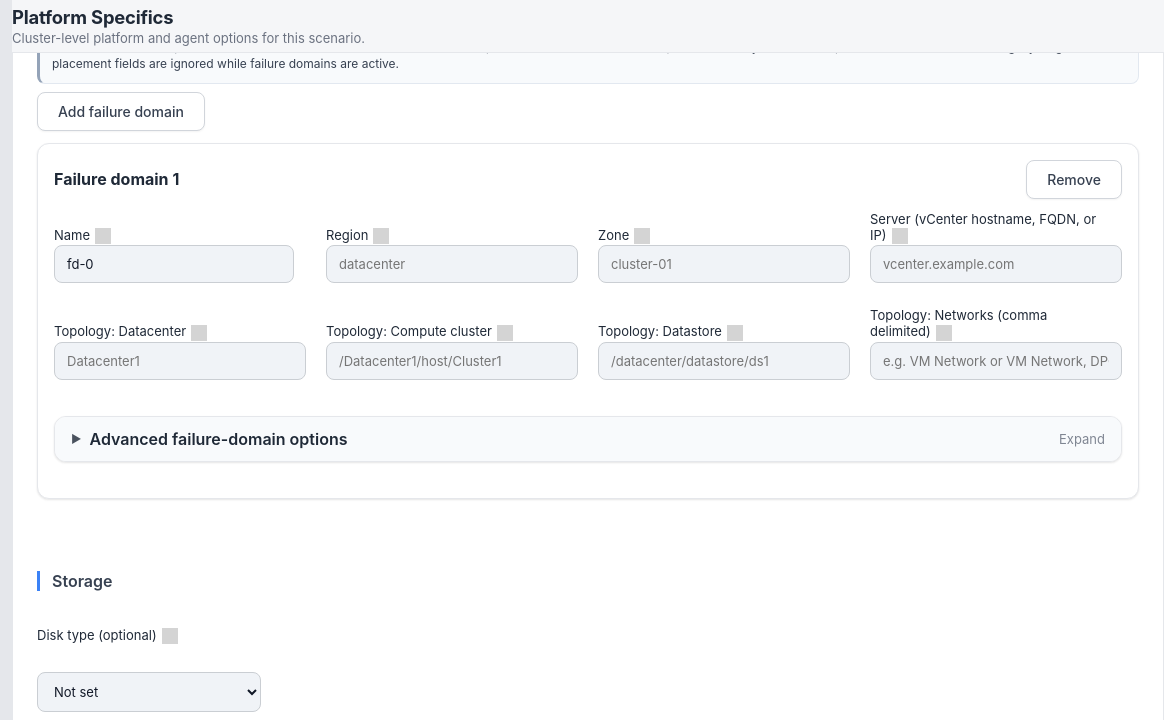
Test: R5: comma-delimited Networks field editing contract › supports mid-string editing without caret jumping to the end
This screenshot has width=1164, height=720.
(page scrolled)
Click the field with placeholder "e.g. VM Network or VM Network, DPG-1" at (996, 360), box [870,342,1122,380]
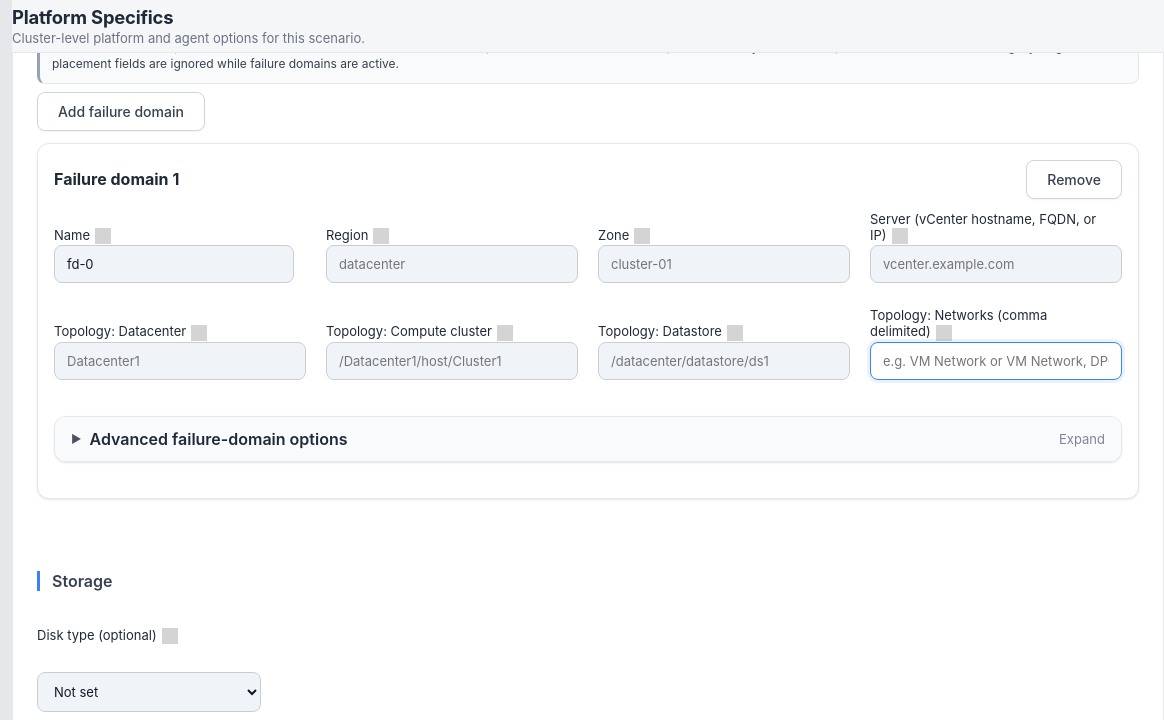
Type keys "alpha, beta"
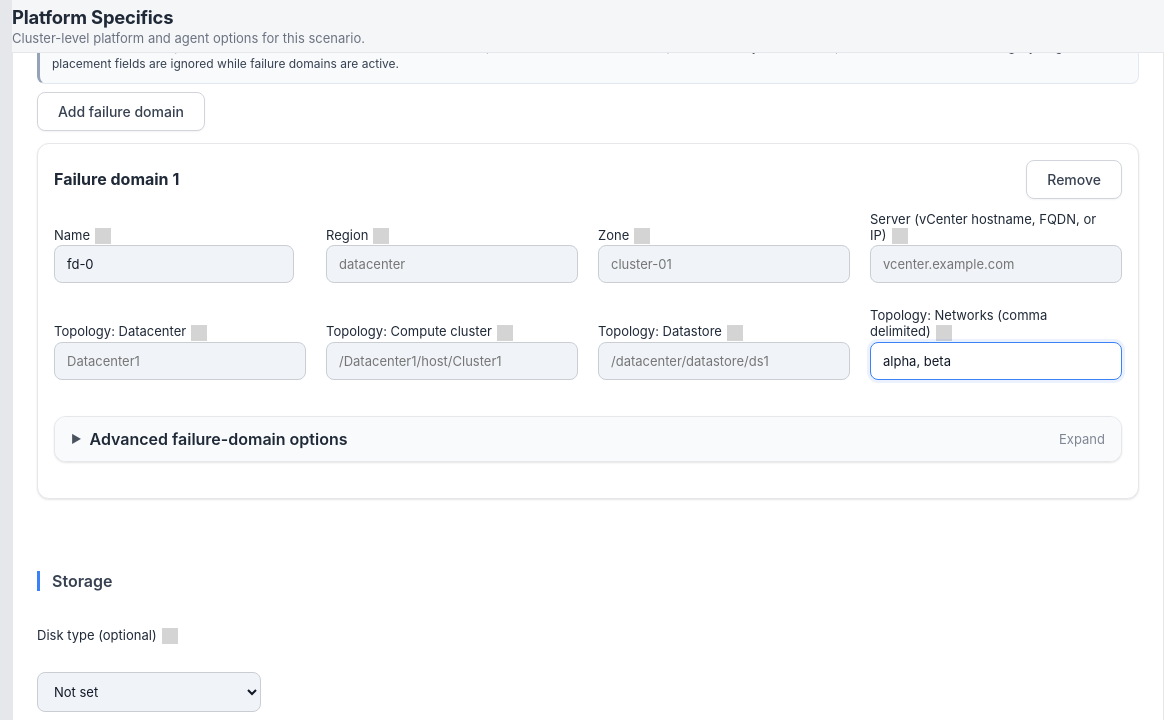
Type keys "X"
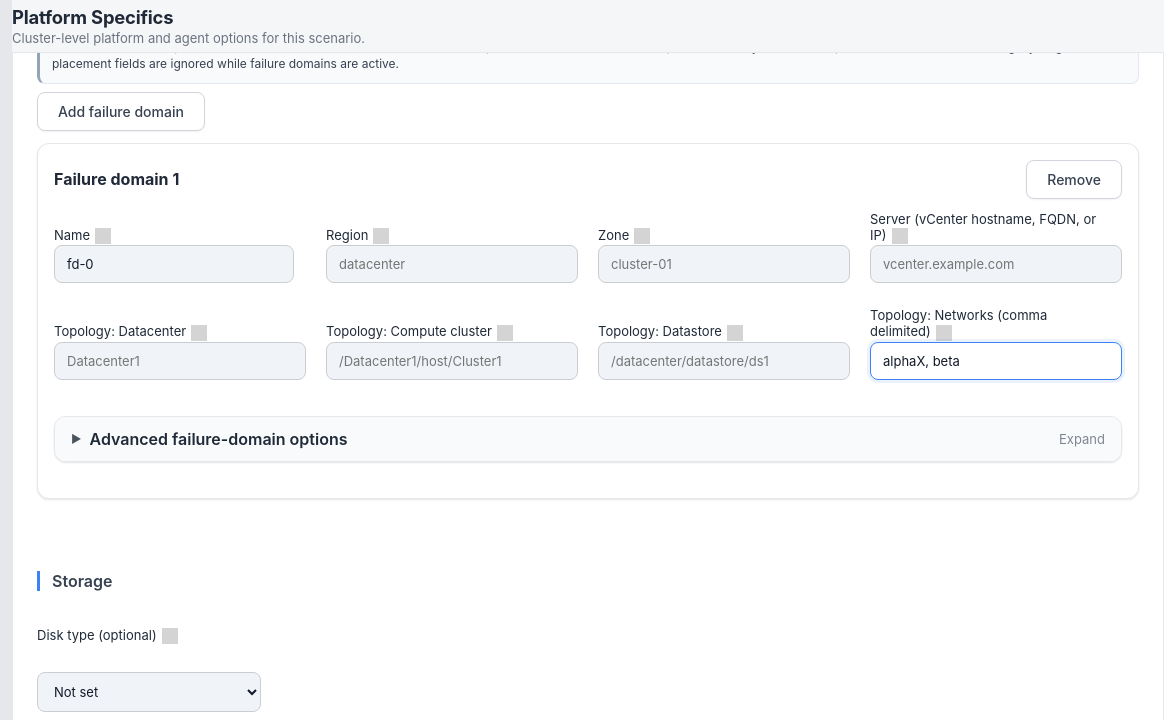
Now the field with placeholder "e.g. VM Network or VM Network, DPG-1" holds "alphaX, beta", box [870,342,1122,380]
